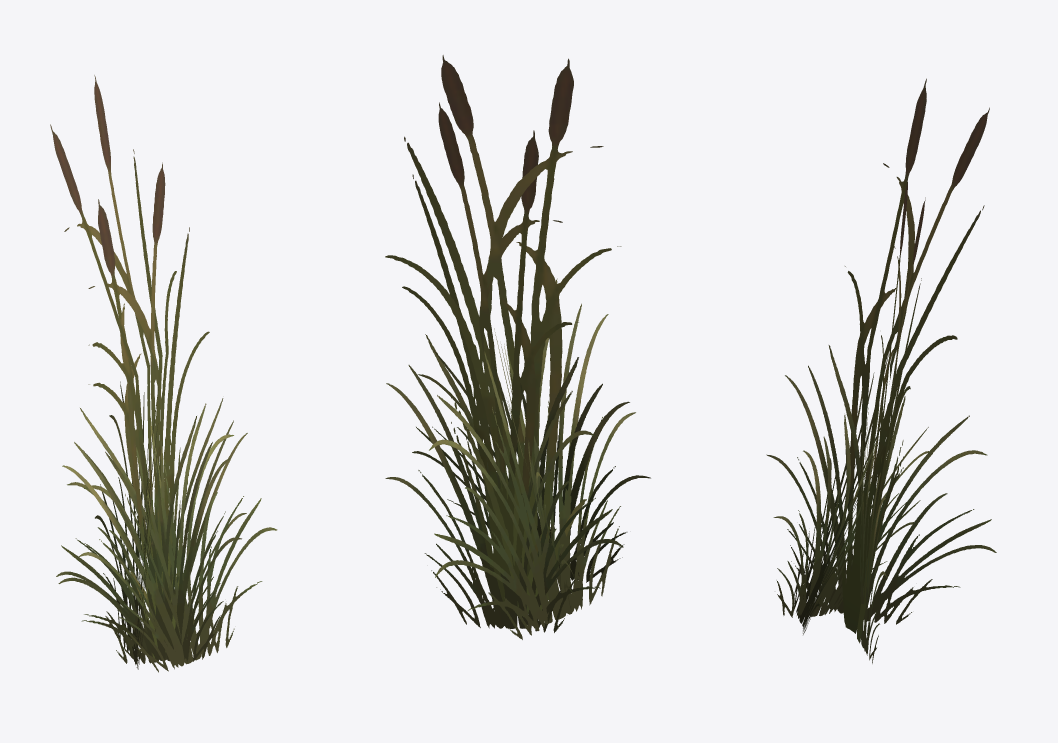
The model's file is Wetland_GrassPatch_3.fbx.
3 views of the same model, side by side, from view 1: azimuth 30°, elevation 25°; view 2: azimuth 150°, elevation 25°; view 3: azimuth 270°, elevation 25° (orthographic). The views are drawn at different scales.
Visible parts, largest first — view 1: Wetland_GrassPatch_3; view 2: Wetland_GrassPatch_3; view 3: Wetland_GrassPatch_3.
Part boxes in pixels (x1,y1,x2,y2): Wetland_GrassPatch_3: (50,75,277,672); Wetland_GrassPatch_3: (385,55,650,639); Wetland_GrassPatch_3: (766,78,996,663).
Size of the model in its own units: 138 by 329 by 159.
Materials: 1 (1 with a texture image).
